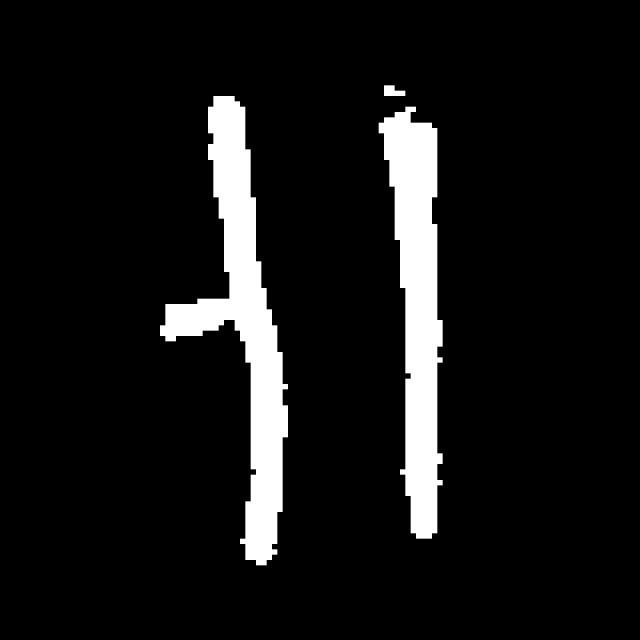capacitor: (201, 80, 453, 567)
